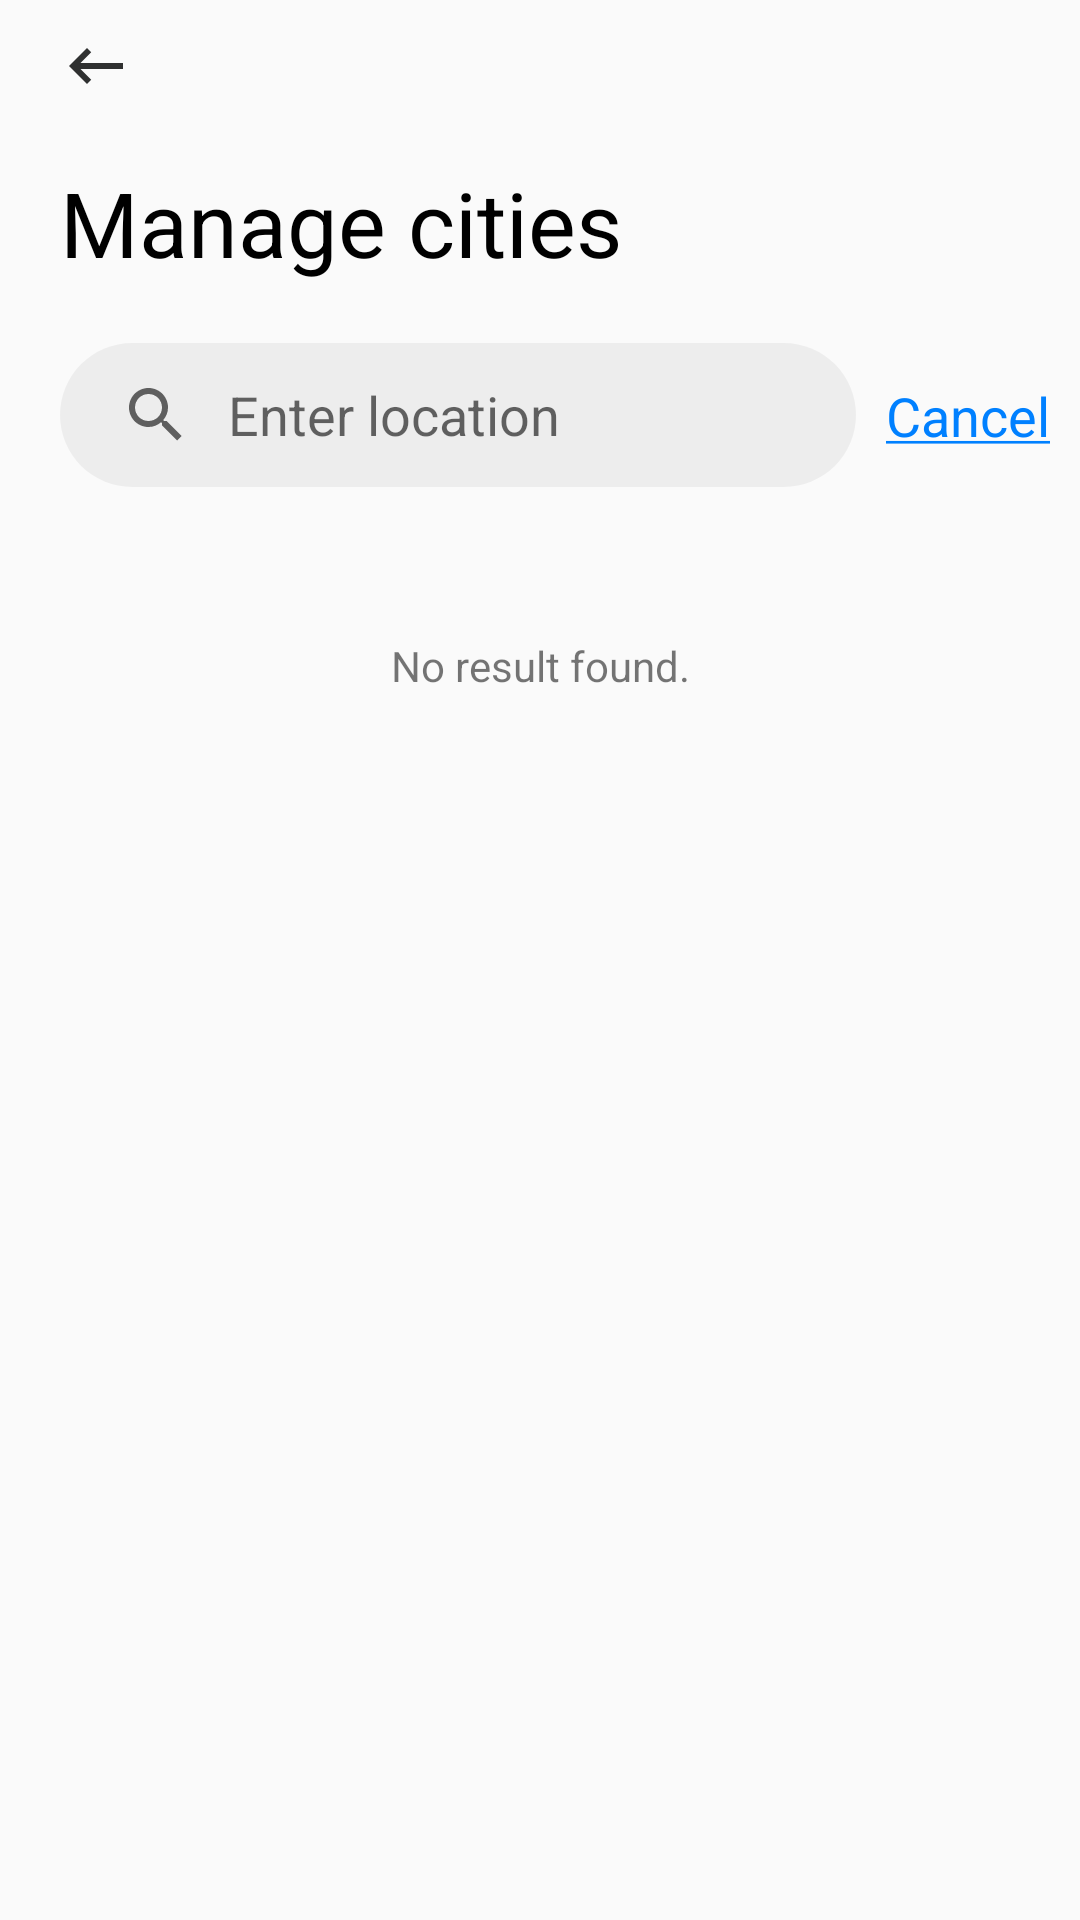

Icon bounding boxes for this 1080x1920 phone screenshot, format (x1, y1, x2, y2):
keyboard backspace: (69, 48, 123, 84)
